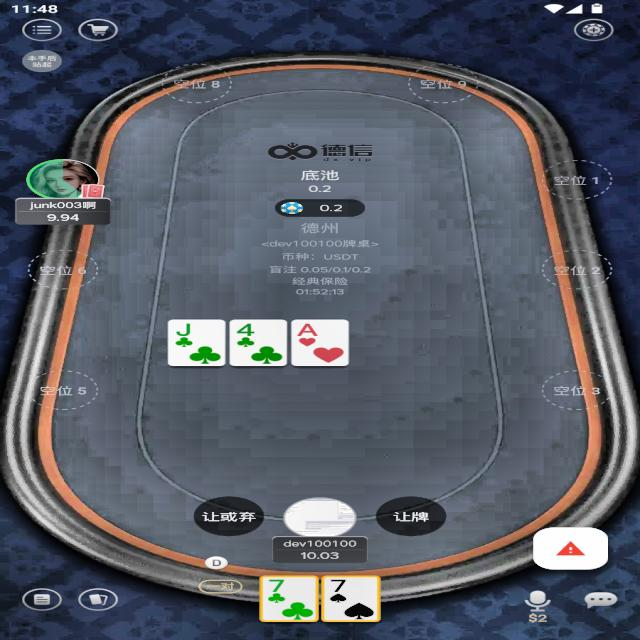4m: (231, 321, 264, 338)
7m: (264, 578, 290, 594)
7s: (326, 578, 350, 594)
Ah: (293, 321, 322, 338)
Jm: (172, 322, 198, 338)
